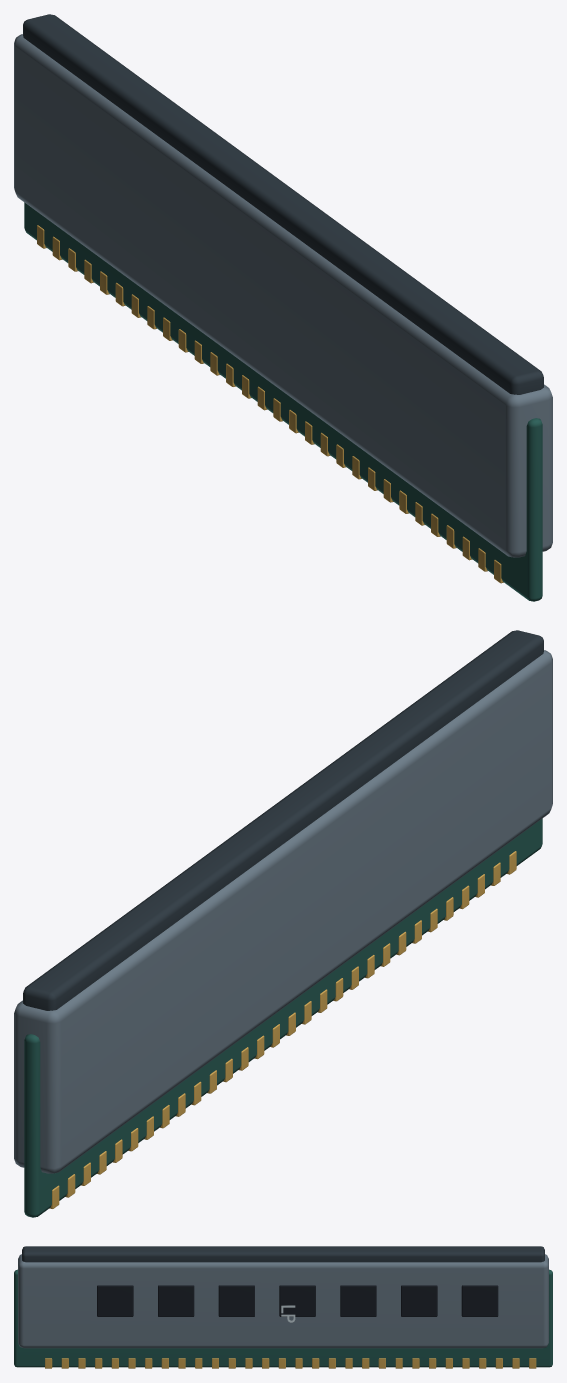
Rendered from low_profile.glb.
The picture shows the model from 3 angles, top to bottom: view 1: azimuth 30°, elevation 25°; view 2: azimuth 150°, elevation 25°; view 3: azimuth 270°, elevation 25°; orthographic projection. The views are drawn at different scales.
Parts seen in each view (by area): view 1: low_profile housing; view 2: low_profile housing; view 3: low_profile housing.
Boxes of the visible parts, bbox=[...] form: low_profile housing: bbox=[14, 14, 552, 601]; low_profile housing: bbox=[14, 630, 552, 1217]; low_profile housing: bbox=[14, 1246, 552, 1368].
Bounding box in the file's own units: 7.51 × 32 × 133.
